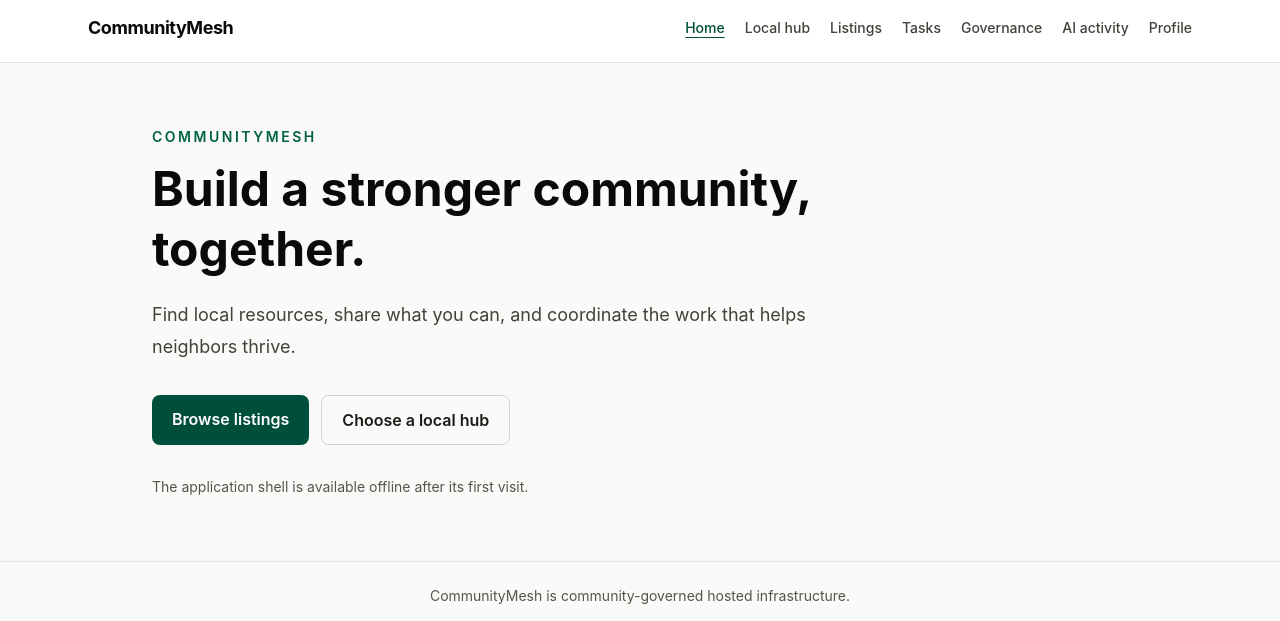
application route navigation › navigates from home to the local hub
Click the link "Local hub" at (777, 28), box [745,18,810,38]
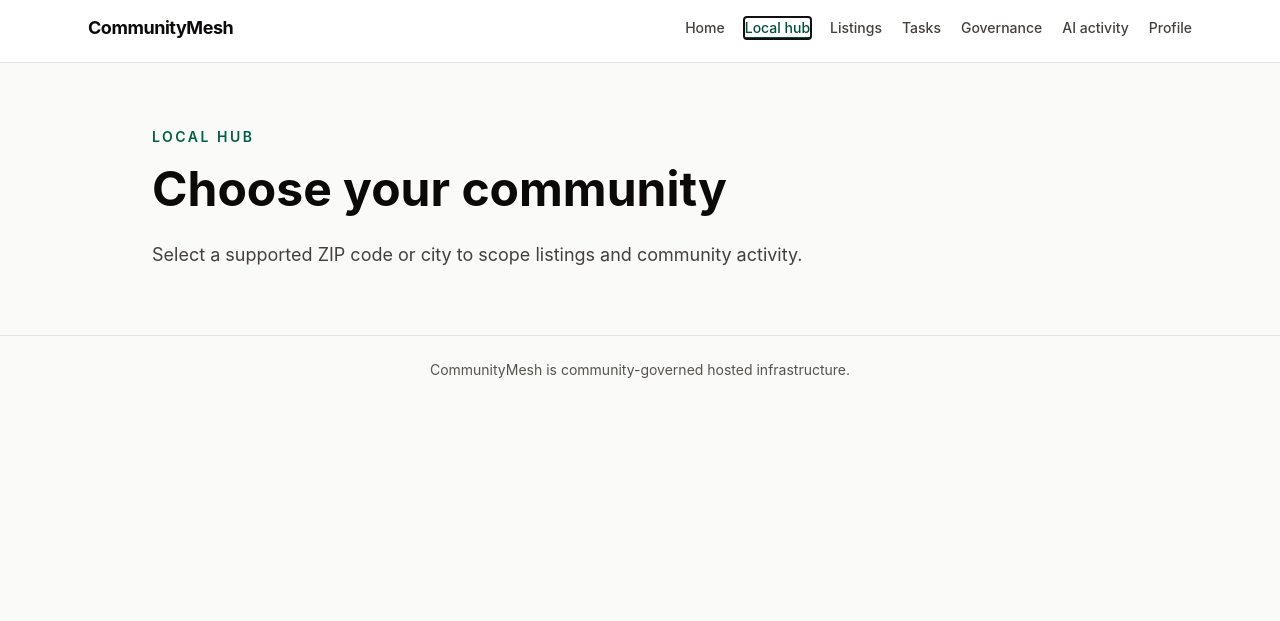
Expected: the heading "Choose your community" is shown, [152,159,727,218]
